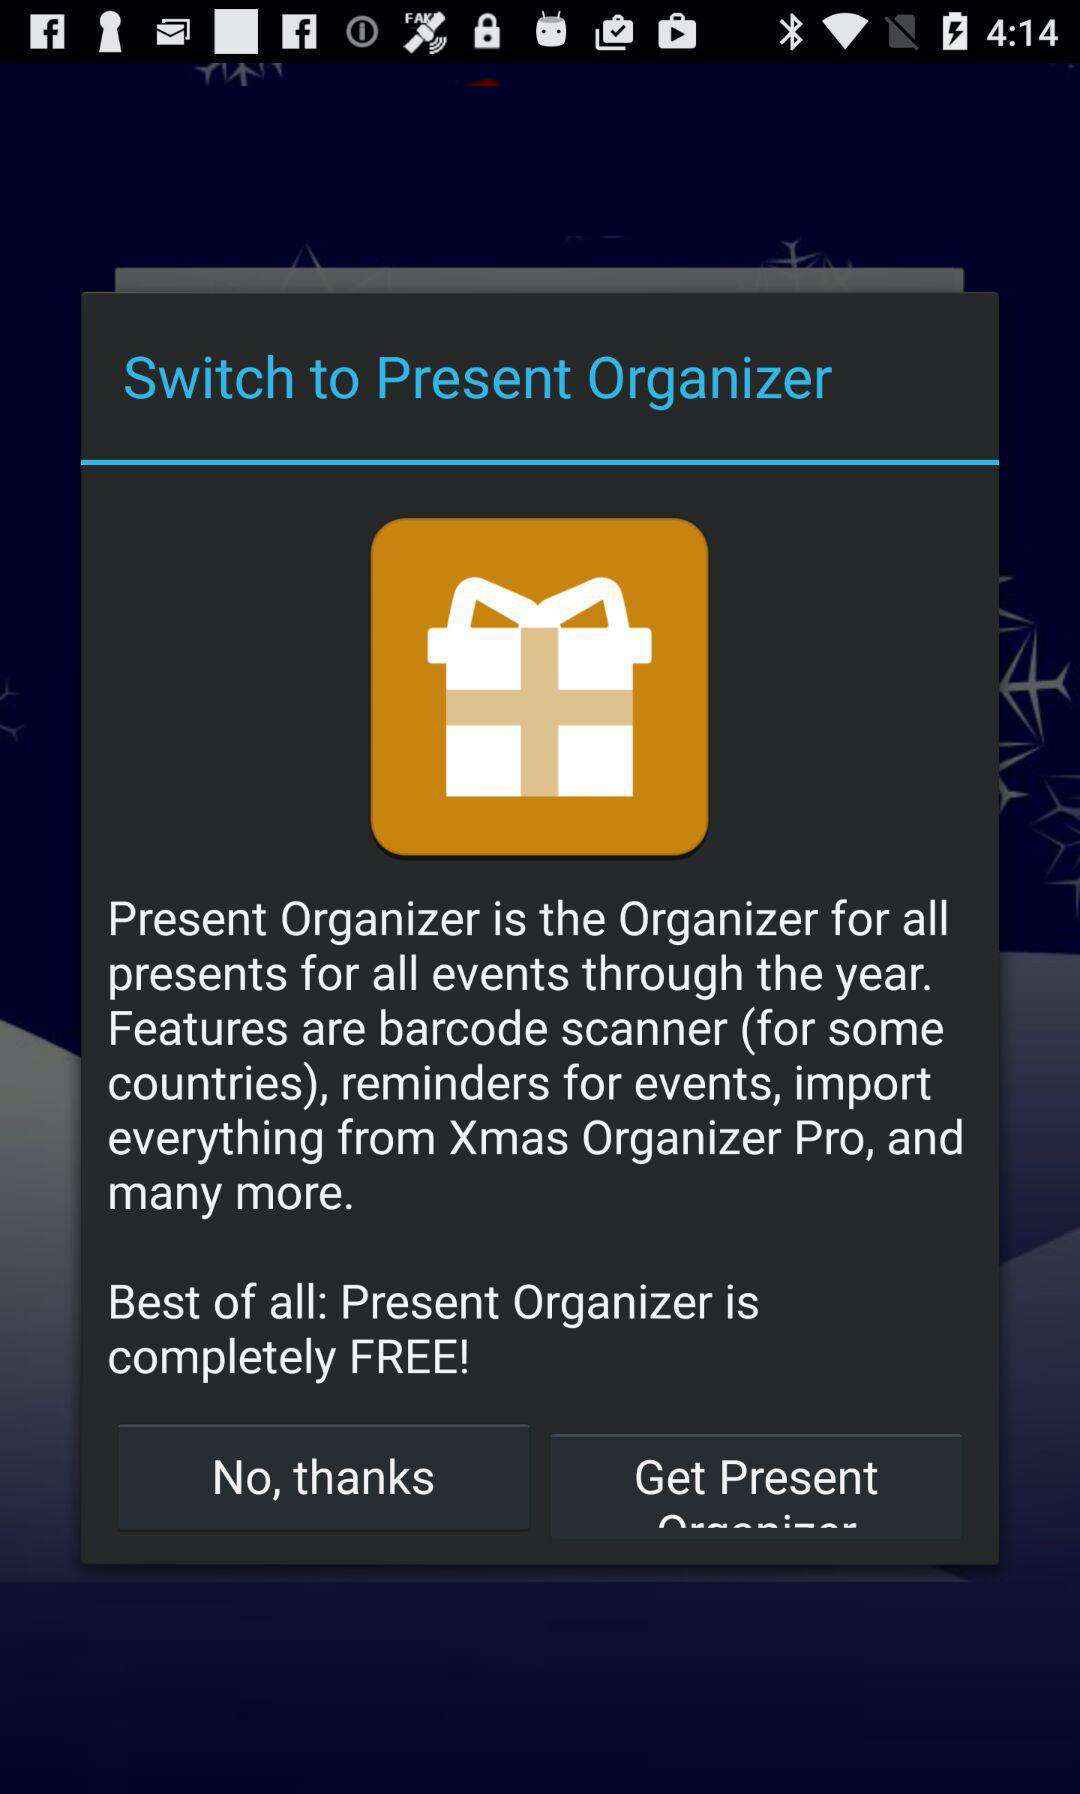Image: (366, 518, 710, 860)
Modal: (81, 293, 1002, 1567)
Text: (108, 896, 963, 1220), (109, 1283, 758, 1385), (126, 355, 831, 413)
TextButton: (548, 1434, 969, 1543), (115, 1422, 534, 1531)
UpperTaskBar: (1, 1, 1080, 64)
